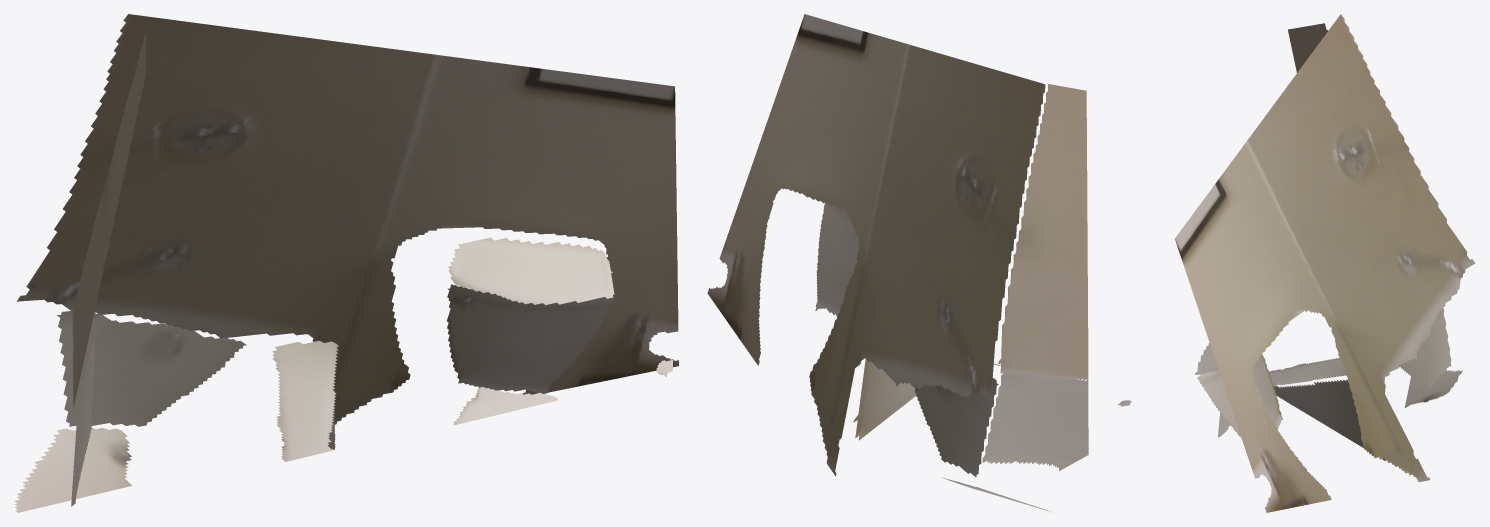
Rendered from 326_d2_depth_predplane_pred_model.glb.
The picture shows the model from 3 angles, left to right: view 1: azimuth 30°, elevation 25°; view 2: azimuth 150°, elevation 25°; view 3: azimuth 270°, elevation 25°; orthographic projection. The views are drawn at different scales.
Size of the model in its own units: 1.75 by 1.58 by 1.32.
